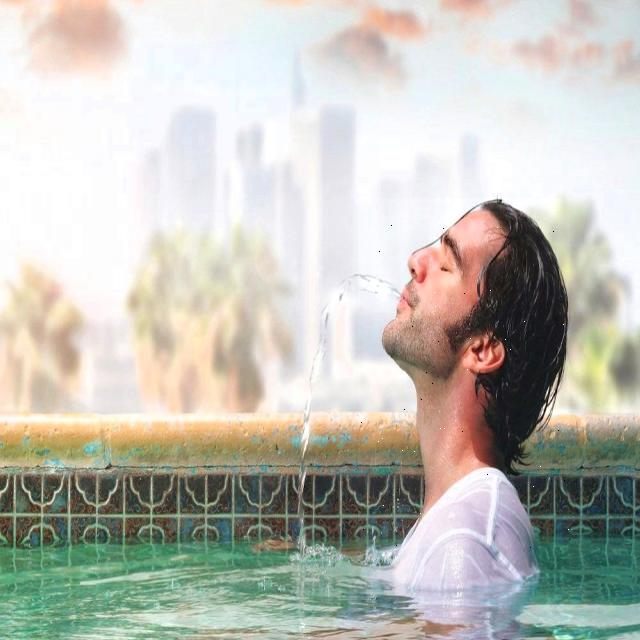Spitting: (358, 198, 570, 548)
